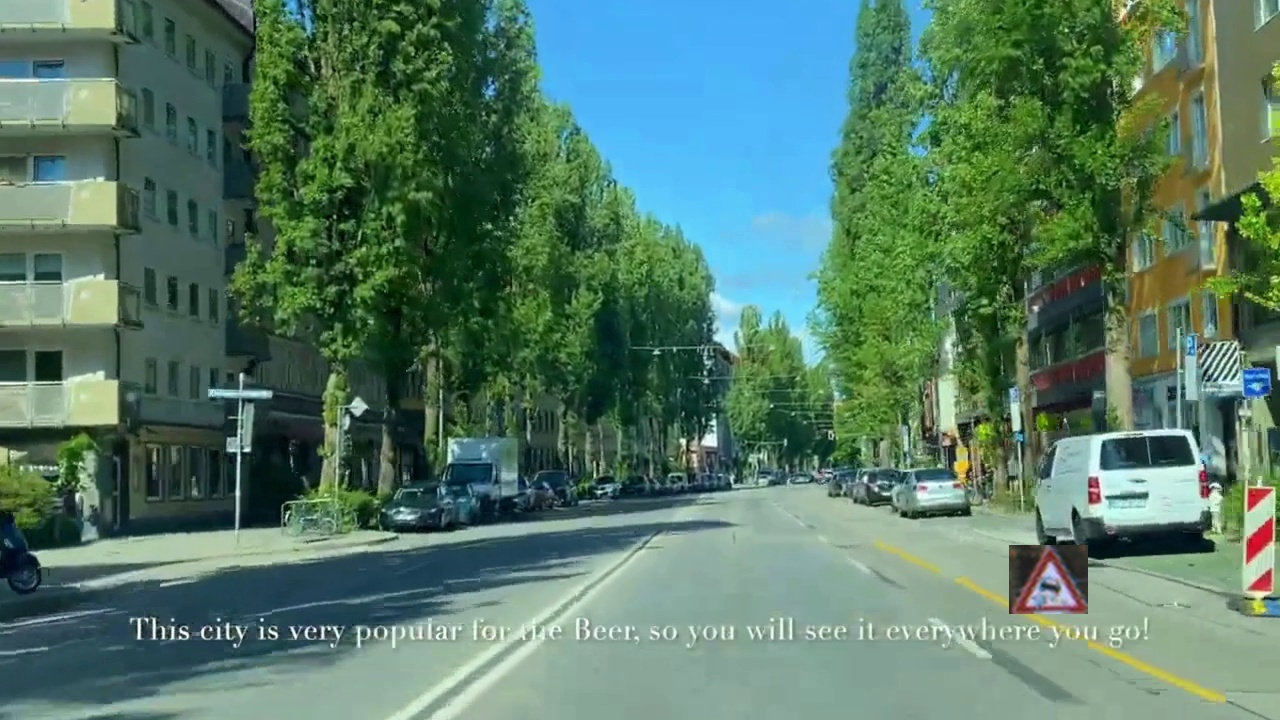Slippery: (1009, 545, 1088, 614)
